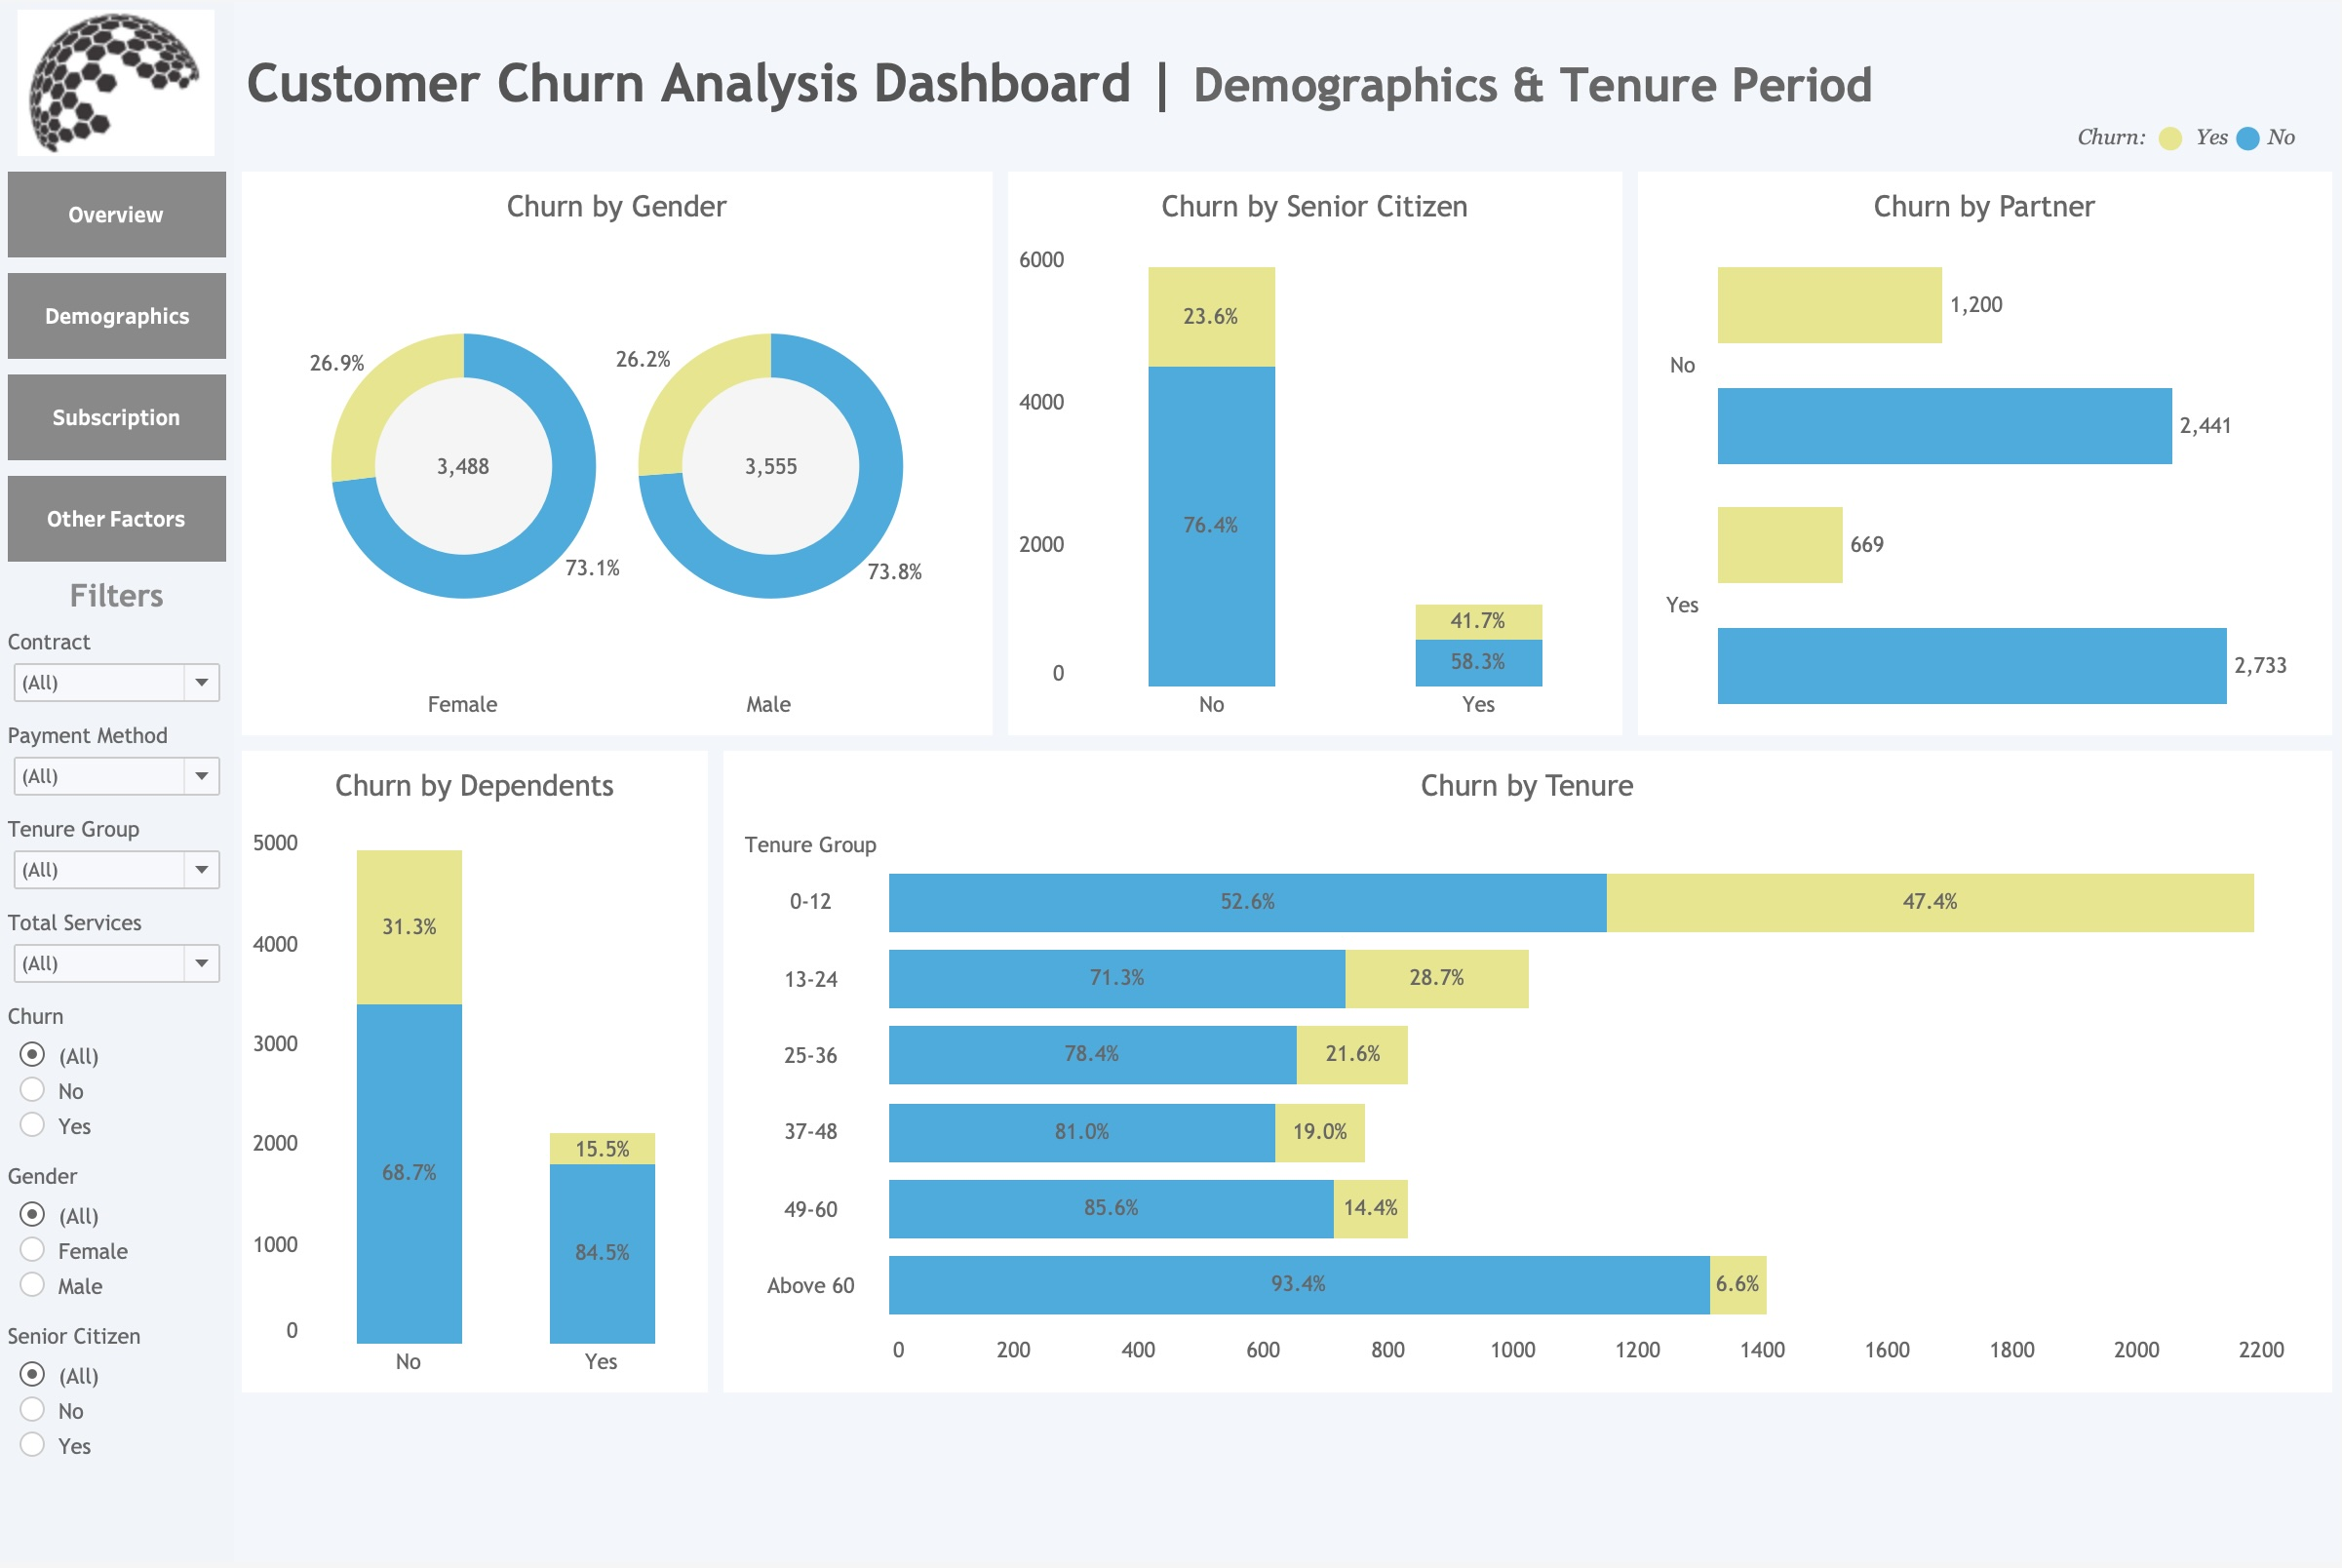

This screenshot's page, from the dashboard's own definition file:
{"tool":"tableau","page":{"name":"Demographics & Tenure Period","canvas":[1200,800],"ordinal":1},"visuals":[{"type":"image","param":"Image/Screenshot 2025-07-18 at 7.56.09 PM.png","box":[0,0,120,83]},{"type":"text","box":[120,0,1080,83]},{"type":"text","box":[1063,54,130,30]},{"type":"dashboard-object","box":[0,83,120,52]},{"type":"worksheet","title":"Churn by Gender","mark":"Pie","rows":["Calculation_4873105934619631618","Calculation_4873105934619709444"],"cols":["gender"],"box":[120,83,393,297]},{"type":"worksheet","title":"Churn by Senior Citizen","mark":"Automatic","rows":["customerID"],"cols":["SeniorCitizen"],"box":[513,83,323,297]},{"type":"worksheet","title":"Churn by Partner","mark":"Automatic","rows":["Partner","Churn"],"cols":["customerID"],"box":[836,83,364,297]},{"type":"dashboard-object","box":[0,135,120,52]},{"type":"dashboard-object","box":[0,187,120,52]},{"type":"dashboard-object","box":[0,239,120,52]},{"type":"text","box":[0,291,120,27]},{"type":"filter","title":"Churn by Senior Citizen","param":"[federated.00i3pks088phsx120ps0f1dvn0i1].[none:Contract:nk]","box":[0,318,120,48]},{"type":"filter","title":"Churn by Senior Citizen","param":"[federated.00i3pks088phsx120ps0f1dvn0i1].[none:PaymentMethod:nk]","box":[0,366,120,48]},{"type":"worksheet","title":"Churn by Dependents","mark":"Automatic","rows":["customerID"],"cols":["Dependents"],"box":[120,380,247,337]},{"type":"worksheet","title":"Churn by Tenure","mark":"Automatic","rows":["Calculation_2054767361529266176"],"cols":["customerID"],"box":[367,380,833,337]},{"type":"filter","title":"Churn by Senior Citizen","param":"[federated.00i3pks088phsx120ps0f1dvn0i1].[none:Calculation_2054767361529266176:n","box":[0,414,120,48]},{"type":"filter","title":"Churn by Senior Citizen","param":"[federated.00i3pks088phsx120ps0f1dvn0i1].[none:Calculation_1960473245427531779:o","box":[0,462,120,48]},{"type":"filter","title":"Churn by Gender","param":"[federated.00i3pks088phsx120ps0f1dvn0i1].[none:Churn:nk]","box":[0,510,120,82]},{"type":"filter","title":"Churn by Gender","param":"[federated.00i3pks088phsx120ps0f1dvn0i1].[none:gender:nk]","box":[0,592,120,82]},{"type":"filter","title":"Churn by Senior Citizen","param":"[federated.00i3pks088phsx120ps0f1dvn0i1].[none:SeniorCitizen:nk]","box":[0,674,120,82]}]}

Visuals, with their boxes in screenshot pixels (x1, y1, x2, y2), scaled from the page's 1200x800 canvas onto the 2342x1568 screenshot:
image: box=[0, 0, 234, 163]
text: box=[234, 0, 2341, 163]
text: box=[2075, 106, 2328, 165]
dashboard-object: box=[0, 163, 234, 264]
"Churn by Gender" worksheet (Pie marks): box=[234, 163, 1001, 745]
"Churn by Senior Citizen" worksheet: box=[1001, 163, 1631, 745]
"Churn by Partner" worksheet: box=[1631, 163, 2341, 745]
dashboard-object: box=[0, 264, 234, 367]
dashboard-object: box=[0, 367, 234, 468]
dashboard-object: box=[0, 468, 234, 570]
text: box=[0, 570, 234, 623]
"Churn by Senior Citizen" filter: box=[0, 623, 234, 718]
"Churn by Senior Citizen" filter: box=[0, 718, 234, 811]
"Churn by Dependents" worksheet: box=[234, 745, 717, 1405]
"Churn by Tenure" worksheet: box=[717, 745, 2341, 1405]
"Churn by Senior Citizen" filter: box=[0, 811, 234, 906]
"Churn by Senior Citizen" filter: box=[0, 906, 234, 1000]
"Churn by Gender" filter: box=[0, 1000, 234, 1160]
"Churn by Gender" filter: box=[0, 1160, 234, 1321]
"Churn by Senior Citizen" filter: box=[0, 1321, 234, 1482]
